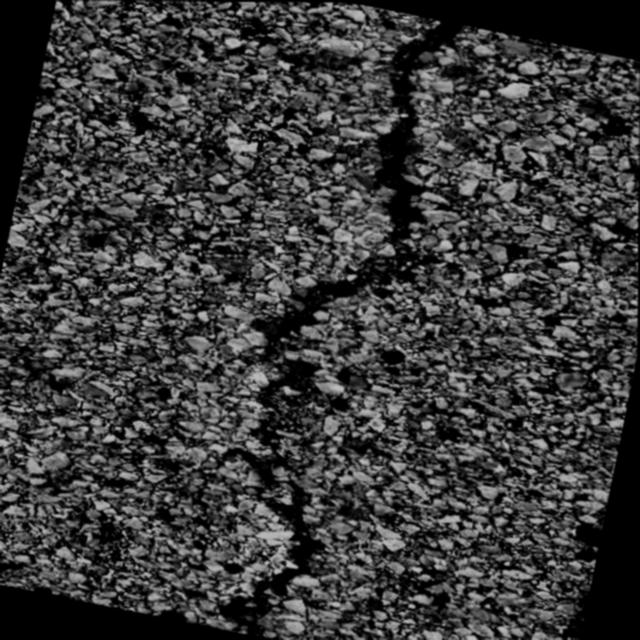cracks: (221, 20, 462, 637)
